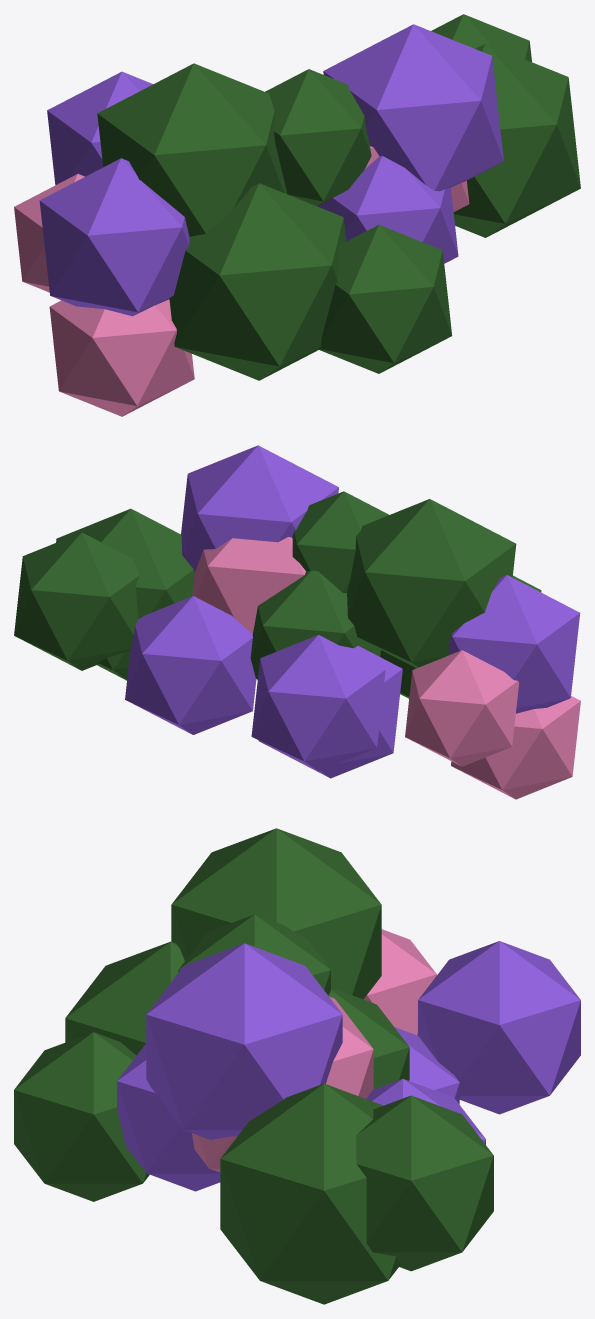
Rendered from buisson_toundra_2.glb.
The picture shows the model from 3 angles, top to bottom: view 1: azimuth 30°, elevation 25°; view 2: azimuth 150°, elevation 25°; view 3: azimuth 270°, elevation 25°; orthographic projection. The views are drawn at different scales.
Visible parts, largest first — view 1: bruyere_feuille_sombre.002, bruyere_violet.002, bruyere_rose.002; view 2: bruyere_violet.002, bruyere_feuille_sombre.002, bruyere_rose.002; view 3: bruyere_feuille_sombre.002, bruyere_violet.002, bruyere_rose.002.
Boxes of the visible parts, x1,y1,x2,y2 form: bruyere_feuille_sombre.002: (97, 14, 580, 380); bruyere_violet.002: (39, 24, 503, 316); bruyere_rose.002: (14, 146, 469, 416); bruyere_violet.002: (125, 445, 580, 778); bruyere_feuille_sombre.002: (14, 491, 541, 698); bruyere_rose.002: (192, 537, 580, 799); bruyere_feuille_sombre.002: (14, 828, 493, 1304); bruyere_violet.002: (117, 941, 580, 1191); bruyere_rose.002: (192, 929, 436, 1172).
Bounding box in the file's own units: 0.487 × 0.2762 × 0.3849.
